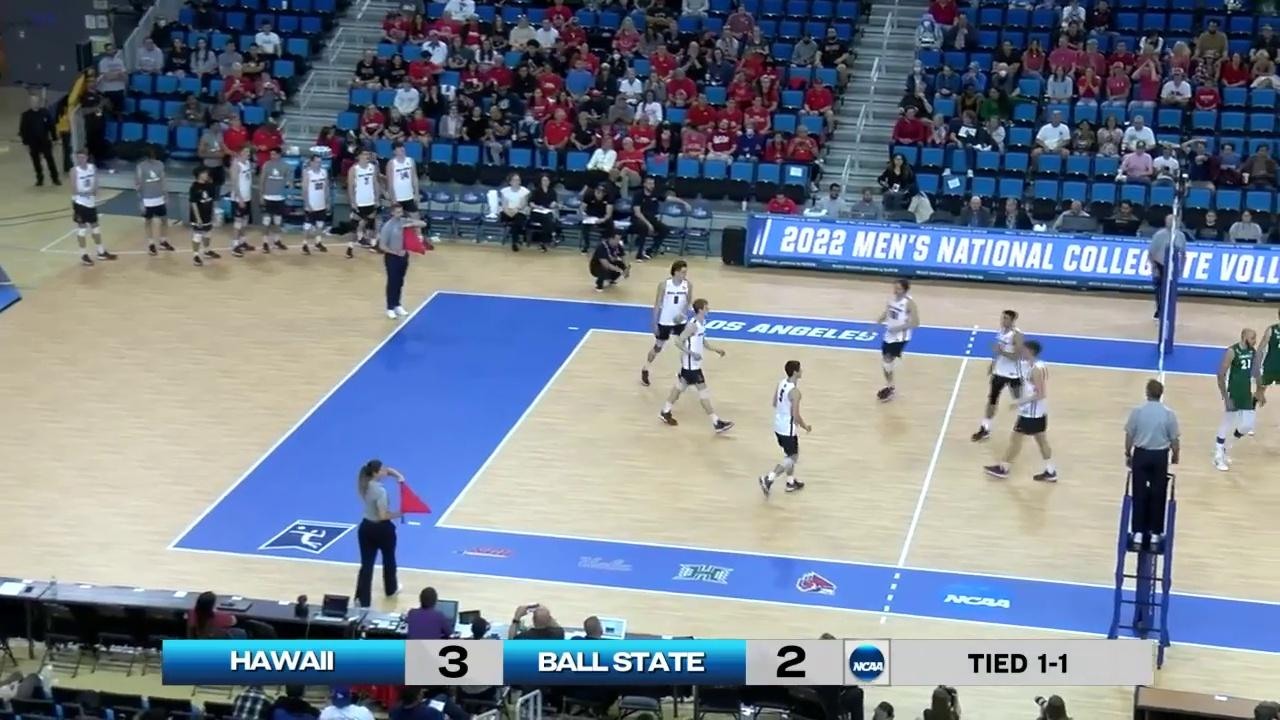player: (985, 341, 1057, 481), (661, 300, 736, 431), (975, 310, 1037, 439), (642, 260, 700, 395), (760, 359, 810, 496), (1214, 328, 1257, 472), (875, 281, 916, 404), (1247, 301, 1279, 437)
refree: (1120, 379, 1182, 546), (356, 462, 414, 609), (381, 204, 425, 319), (1154, 215, 1186, 319)
